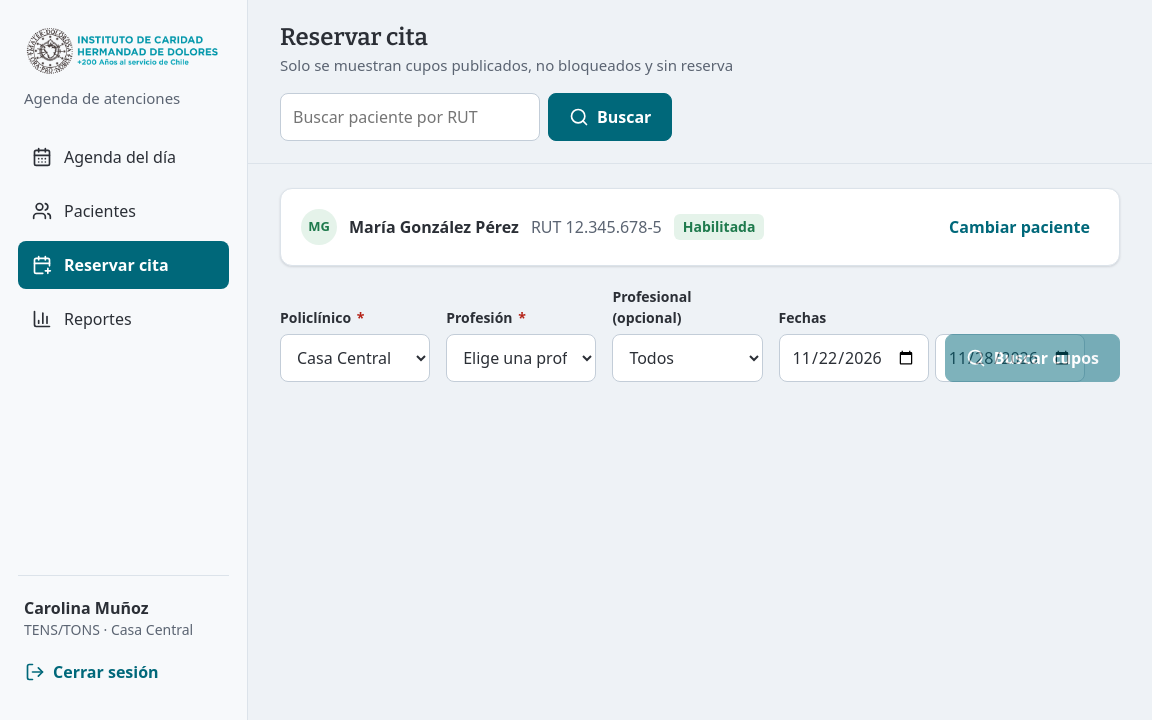
Test: Reservar cita: recorrido A (CU-04) › «Primera hora disponible» elige el primer cupo
Step 1. Select "Medicina" in the dropdown labelled "Profesión *" → (521, 358), box [446,334,596,382]
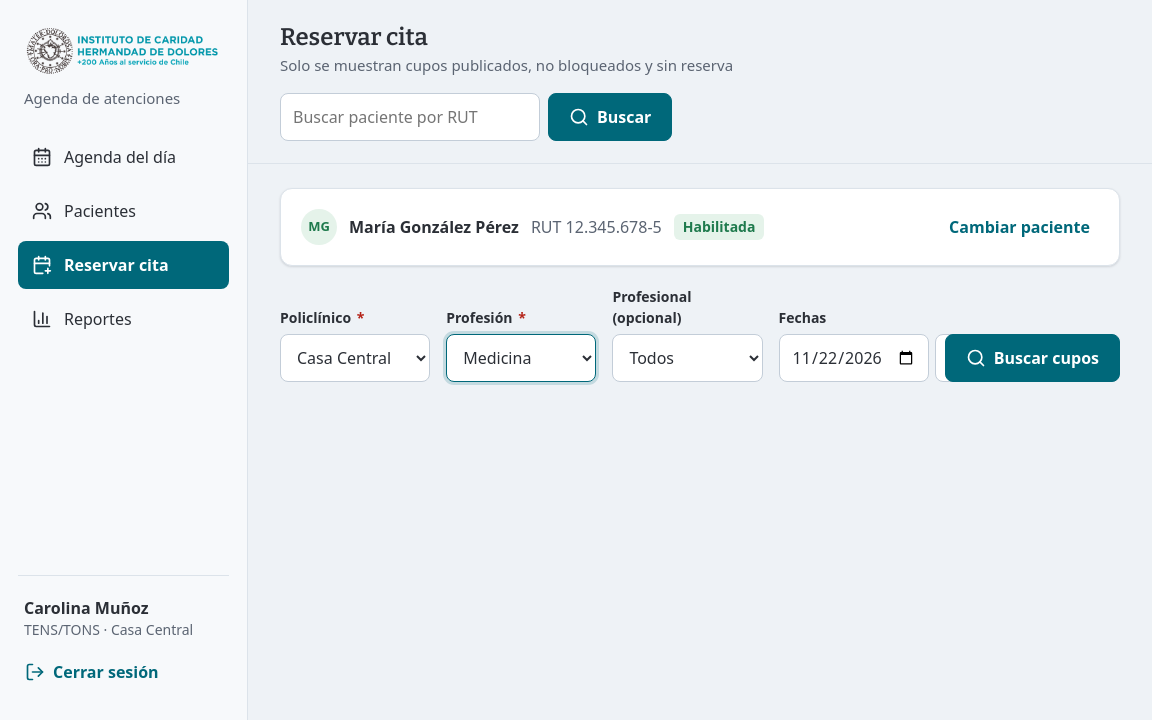
Step 2. Click the button "Buscar cupos" → (1032, 358), box [945,334,1120,382]
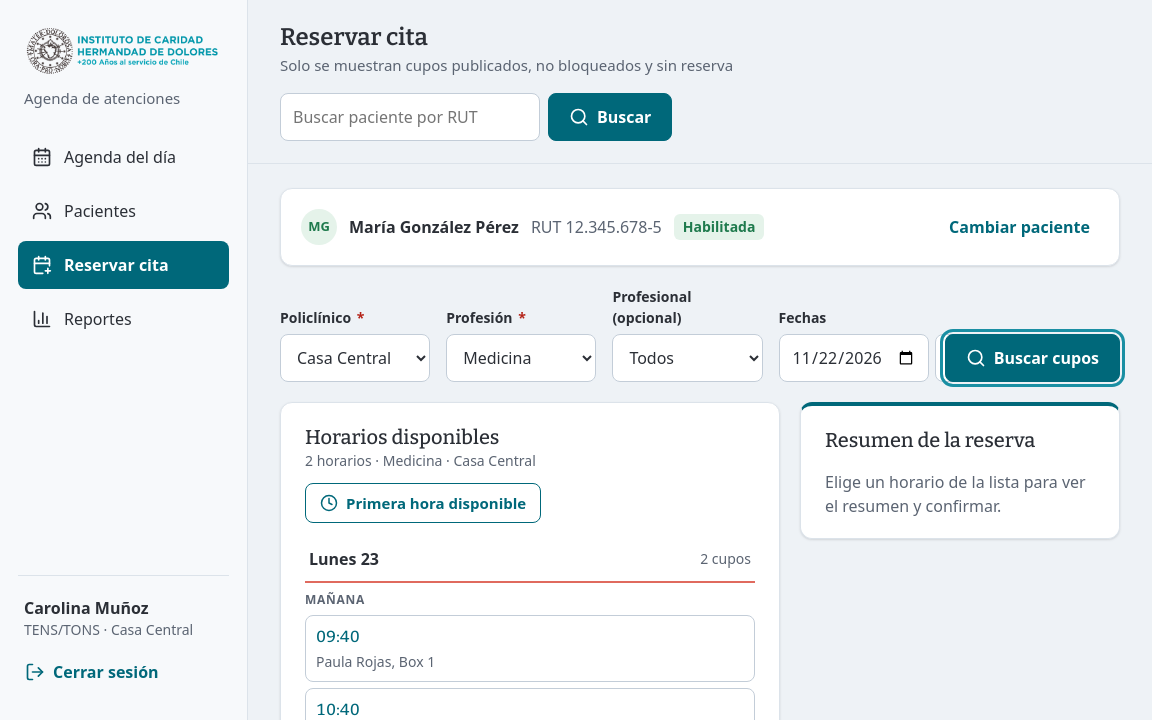
Step 3. Click the button "Primera hora disponible" → (423, 502), box [305,482,541,522]
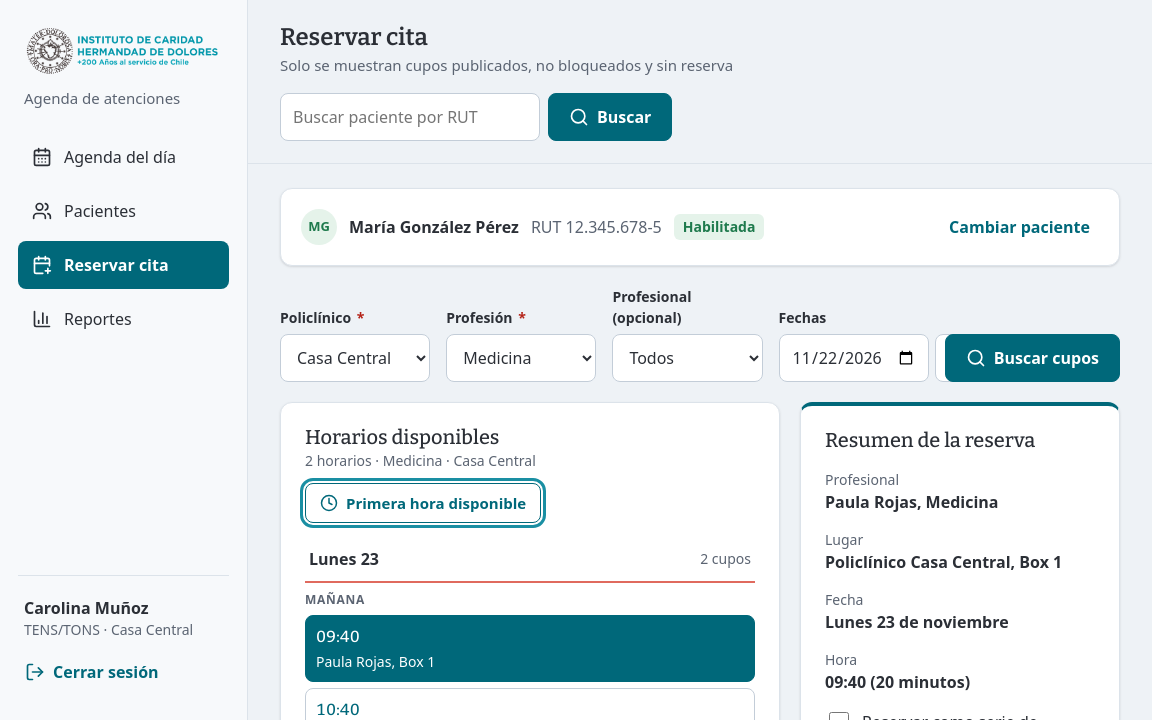
Check: the text "09:40 (20 minutos)" is shown, box [825,670,970,692]
